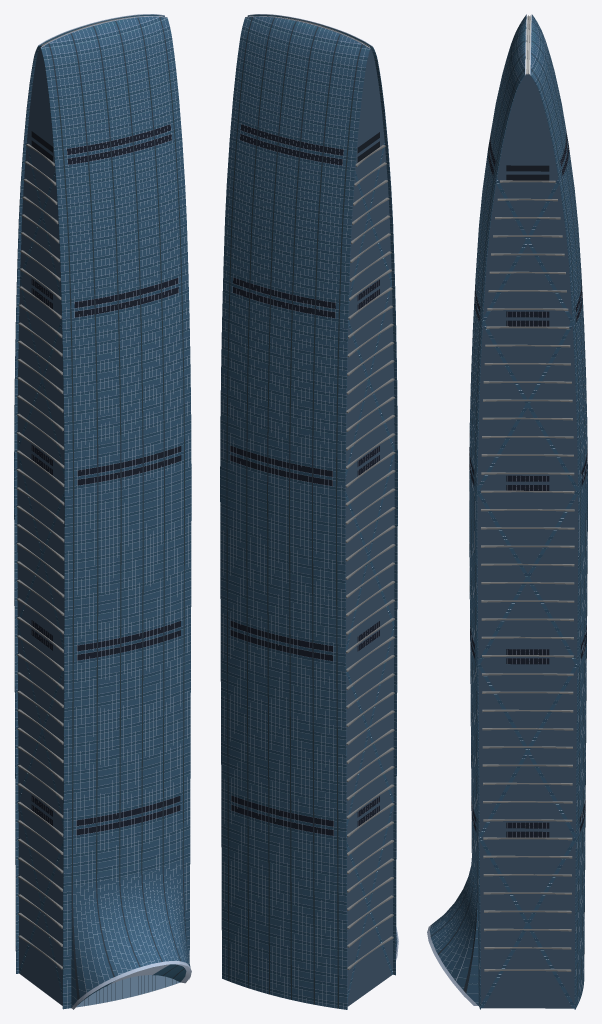
3 renders of one model, left to right at view 1: azimuth 30°, elevation 25°; view 2: azimuth 150°, elevation 25°; view 3: azimuth 270°, elevation 25°, orthographic.
Visible parts, largest first — view 1: kk100_b7451df0; view 2: kk100_b7451df0; view 3: kk100_b7451df0.
Boxes of the visible parts, <box> form: kk100_b7451df0: <box>14,14,191,1009</box>; kk100_b7451df0: <box>220,14,398,1009</box>; kk100_b7451df0: <box>427,14,587,1009</box>.
Bounding box in the file's own units: 61.41 × 442 × 68.19.
Materials: 1 (1 with a texture image).
